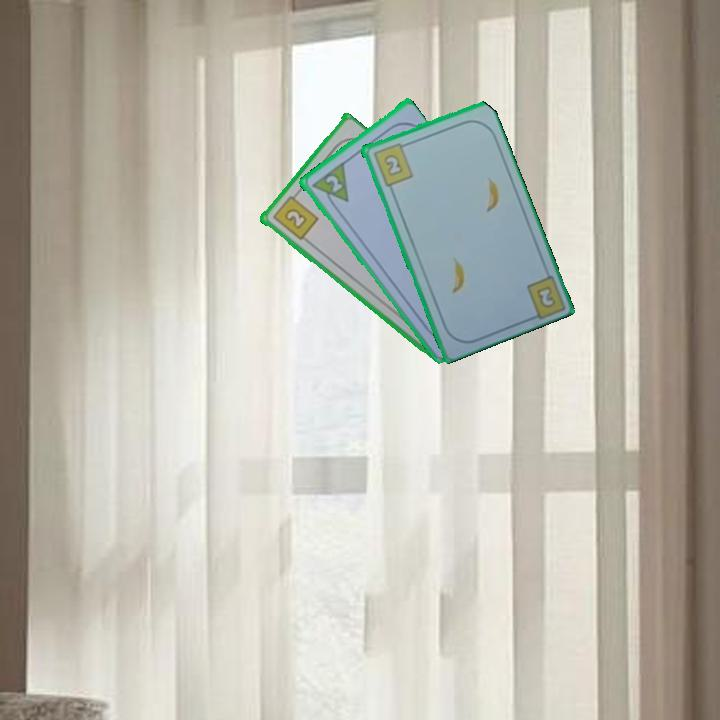2b: (269, 188, 321, 243), (369, 139, 415, 189), (533, 282, 558, 311)
2p: (307, 160, 352, 213)
